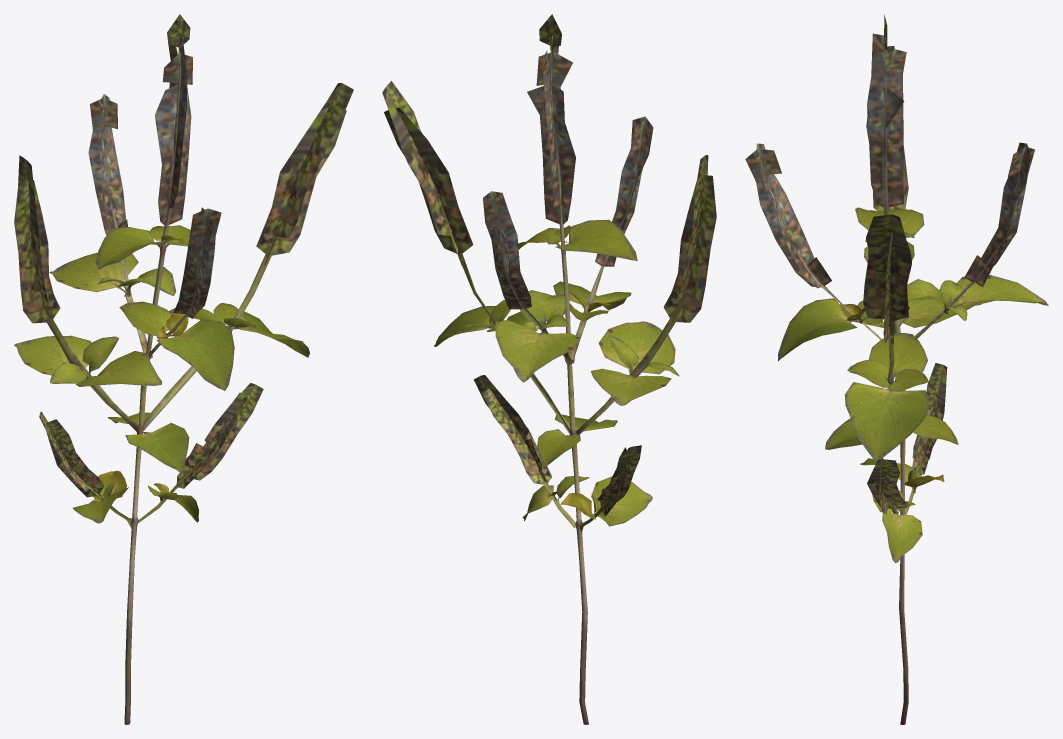
Rendered from shrub-03.glb.
The picture shows the model from 3 angles, left to right: view 1: azimuth 30°, elevation 25°; view 2: azimuth 150°, elevation 25°; view 3: azimuth 270°, elevation 25°; orthographic projection. The views are drawn at different scales.
Parts seen in each view (by area): view 1: shrub_03_a; view 2: shrub_03_a; view 3: shrub_03_a.
Boxes of the visible parts, box(x1,y1,x2,y2) form: shrub_03_a: box(14, 14, 353, 724); shrub_03_a: box(382, 14, 716, 724); shrub_03_a: box(745, 14, 1048, 724).
Size of the model in its own units: 0.2006 by 0.4026 by 0.1512.
Materials: 1 (1 with a texture image).
